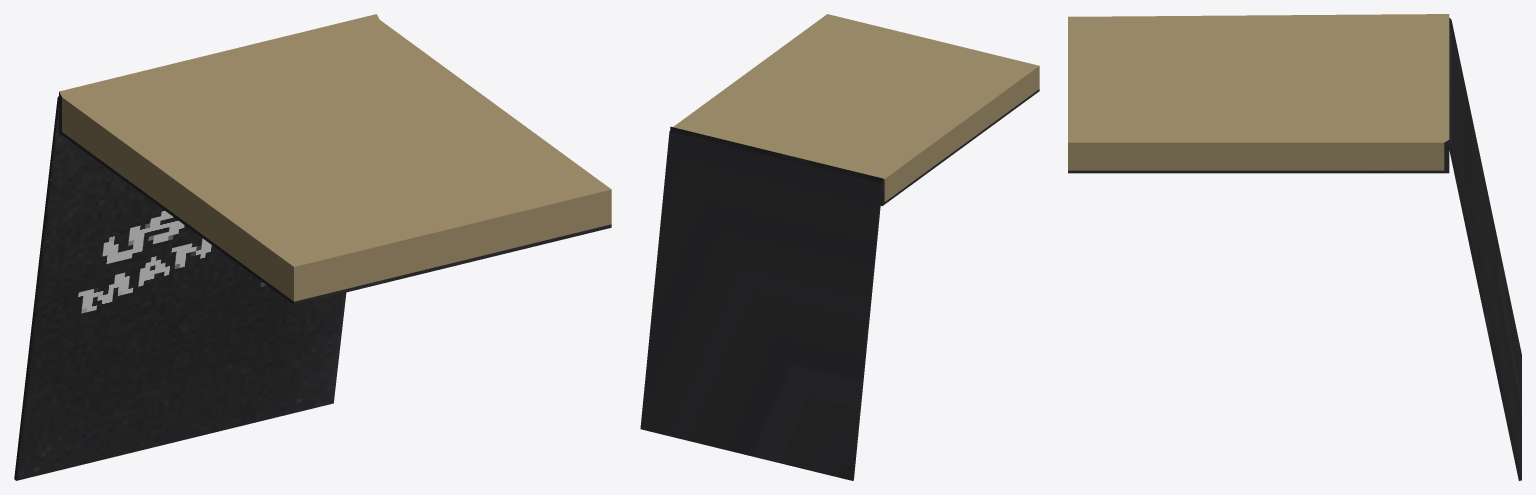
File: USER_MANUAL_OPEN.fbx
3 views of the same model, side by side, from view 1: azimuth 30°, elevation 25°; view 2: azimuth 150°, elevation 25°; view 3: azimuth 270°, elevation 25° (orthographic). The views are drawn at different scales.
Visible parts, largest first — view 1: USER_MANUAL_OPEN; view 2: USER_MANUAL_OPEN; view 3: USER_MANUAL_OPEN.
Part boxes in pixels (<box>): USER_MANUAL_OPEN: <box>14,14,611,480</box>; USER_MANUAL_OPEN: <box>640,14,1039,480</box>; USER_MANUAL_OPEN: <box>1068,14,1521,480</box>.
Bounding box in the file's own units: 16.85 × 21.33 × 25.71.
2 materials, 1 textured.
